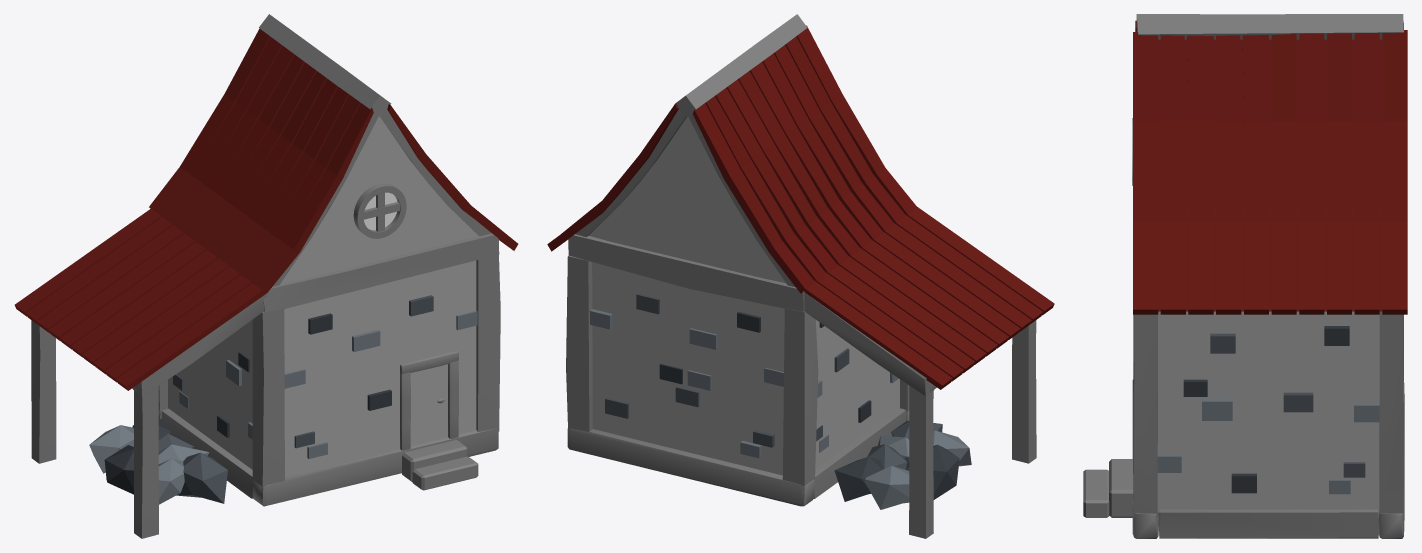
Rendered from StonecutterHouse.fbx.
3 renders of one model, left to right at view 1: azimuth 30°, elevation 25°; view 2: azimuth 150°, elevation 25°; view 3: azimuth 270°, elevation 25°, orthographic. The views are drawn at different scales.
Visible parts, largest first — view 1: Cube.018, WallFront, Cube.063, Plane.005, WallLeft, Cube.003, Cube, Cube.002, Cube.001, Cube.068, Cube.067, Cube.016 (+16 smaller); view 2: Cube.018, WallBack, Cube.063, Plane.006, WallLeft, Cube.006, Cube.007, Cube.004, Cube.005, Cube.067, Cube.068, Cube.016 (+10 smaller); view 3: Cube.017, WallRight, Plane.007, Cube.008, Cube.016, Cube.001, Cube.005, Cube.038, Cube.039, Cube.006, Cube.002, Cube.052 (+7 smaller).
Part boxes in pixels (<box>): Cube.018: <box>149,28,373,292</box>; WallFront: <box>284,260,476,476</box>; Cube.063: <box>14,209,266,390</box>; Plane.005: <box>280,116,478,284</box>; WallLeft: <box>168,320,252,469</box>; Cube.003: <box>263,233,499,311</box>; Cube: <box>252,307,284,486</box>; Cube.002: <box>253,428,498,506</box>; Cube.001: <box>476,254,500,432</box>; Cube.068: <box>134,386,158,538</box>; Cube.067: <box>31,320,56,463</box>; Cube.016: <box>259,14,391,117</box>; Cube.018: <box>693,25,917,293</box>; WallBack: <box>592,262,784,475</box>; Cube.063: <box>804,207,1054,389</box>; Plane.006: <box>589,116,785,283</box>; WallLeft: <box>815,320,899,469</box>; Cube.006: <box>567,428,814,506</box>; Cube.007: <box>568,234,804,311</box>; Cube.004: <box>782,308,818,485</box>; Cube.005: <box>566,255,592,431</box>; Cube.067: <box>909,386,933,538</box>; Cube.068: <box>1012,320,1036,463</box>; Cube.016: <box>675,14,807,117</box>; Cube.017: <box>1133,30,1407,314</box>; WallRight: <box>1157,311,1379,518</box>; Plane.007: <box>1158,39,1382,311</box>; Cube.008: <box>1158,509,1378,538</box>; Cube.016: <box>1136,14,1403,39</box>; Cube.001: <box>1133,314,1157,517</box>; Cube.005: <box>1379,311,1403,513</box>; Cube.038: <box>1109,459,1133,517</box>; Cube.039: <box>1083,469,1109,517</box>; Cube.006: <box>1378,381,1404,538</box>; Cube.002: <box>1132,379,1158,538</box>; Cube.052: <box>1202,398,1232,420</box>.
Size of the model in its own units: 327 by 310 by 196.
